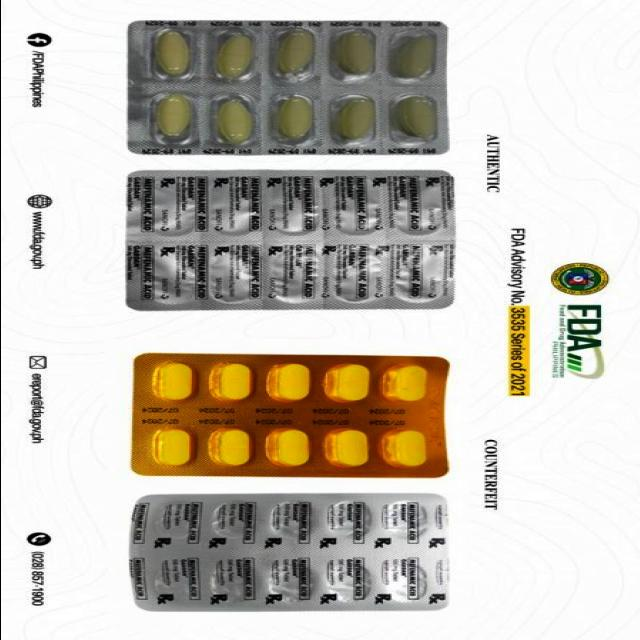authentic: (120, 166, 456, 314), (122, 20, 452, 154)
counterfeit: (126, 353, 454, 479), (129, 493, 457, 611)
